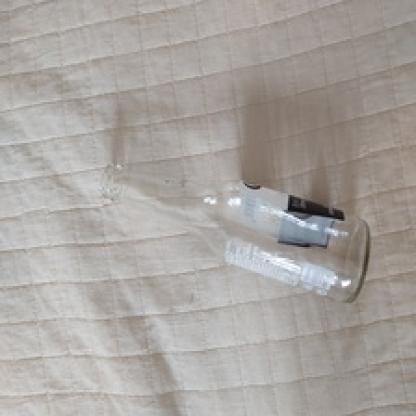Can: (88, 160, 382, 313)
